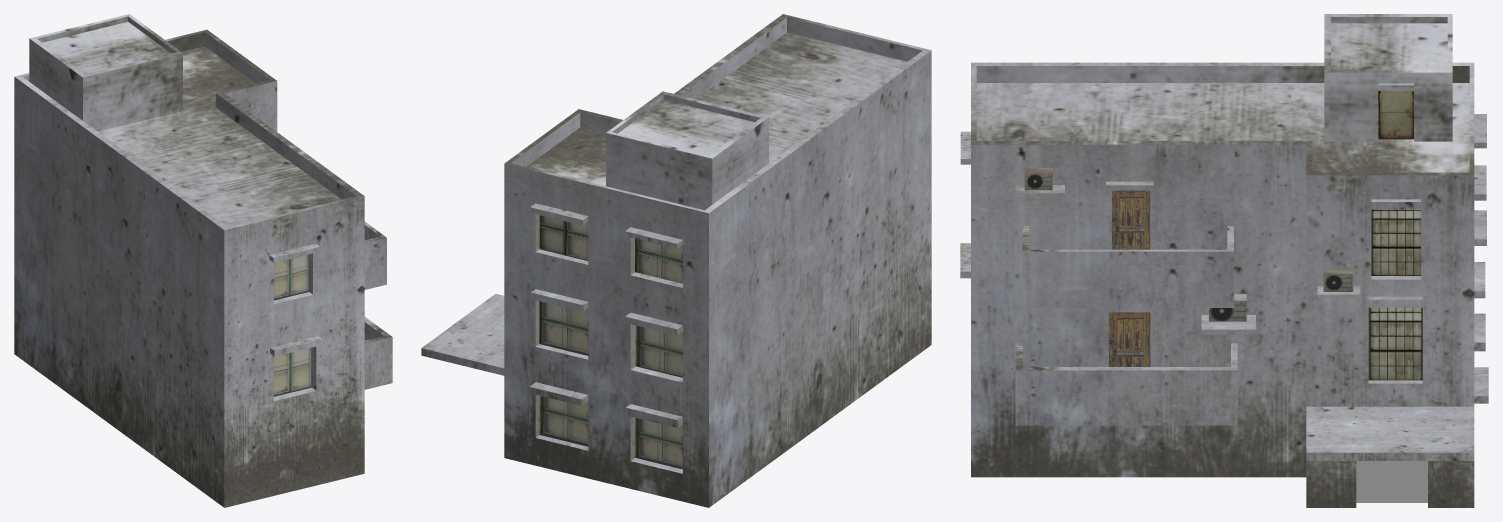
The picture shows the model from 3 angles, left to right: view 1: azimuth 30°, elevation 25°; view 2: azimuth 150°, elevation 25°; view 3: azimuth 270°, elevation 25°; orthographic projection. The views are drawn at different scales.
Parts seen in each view (by area): view 1: Model; view 2: Model; view 3: Model.
Part boxes in pixels (x1,y1,x2,y2): Model: (14,14,392,507); Model: (421,14,931,507); Model: (960,14,1488,507).
Bounding box in the file's own units: 998 × 1130 × 1406.
